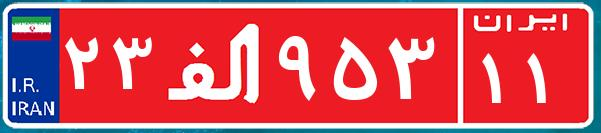1: (475, 38, 525, 113), (525, 38, 570, 115)
2: (57, 26, 110, 107)
3: (385, 28, 445, 110), (110, 28, 158, 105)
5: (330, 28, 385, 110)
9: (273, 28, 330, 110)
الف: (158, 15, 273, 115)
